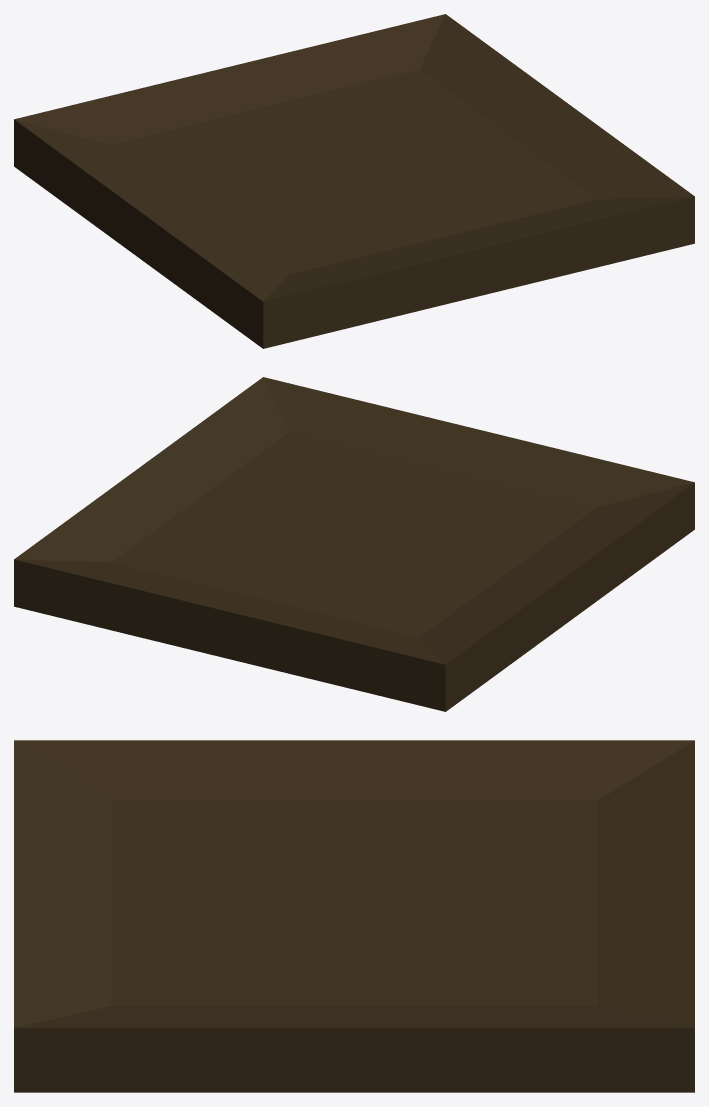
The model's file is Itr_Chair2_Seat_02.FBX.
3 renders of one model, top to bottom at view 1: azimuth 30°, elevation 25°; view 2: azimuth 150°, elevation 25°; view 3: azimuth 270°, elevation 25°, orthographic. The views are drawn at different scales.
Visible parts, largest first — view 1: Itr_Chair2_Seat_02; view 2: Itr_Chair2_Seat_02; view 3: Itr_Chair2_Seat_02.
Part boxes in pixels (x1=…): Itr_Chair2_Seat_02: x1=14, y1=14, x2=694, y2=348; Itr_Chair2_Seat_02: x1=14, y1=377, x2=694, y2=711; Itr_Chair2_Seat_02: x1=14, y1=740, x2=694, y2=1092.
Size of the model in its own units: 14.4 by 1.95 by 14.4.
